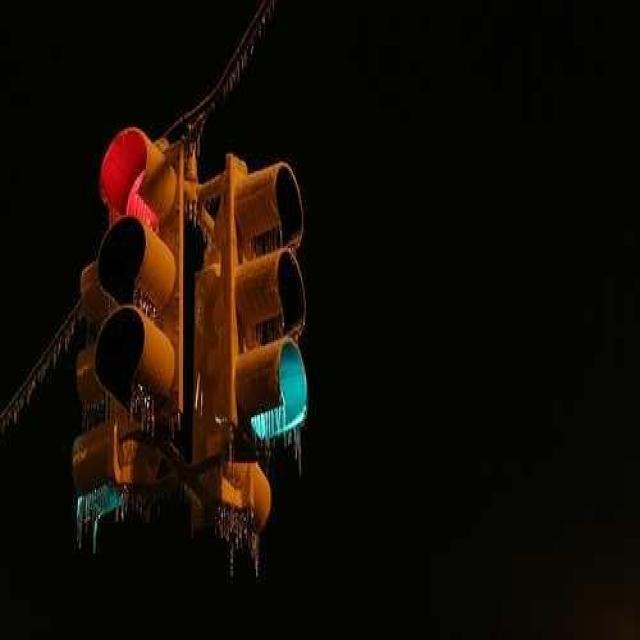Traffic Light -Green-: (220, 145, 310, 477)
Traffic Light -Red-: (95, 124, 187, 453)
